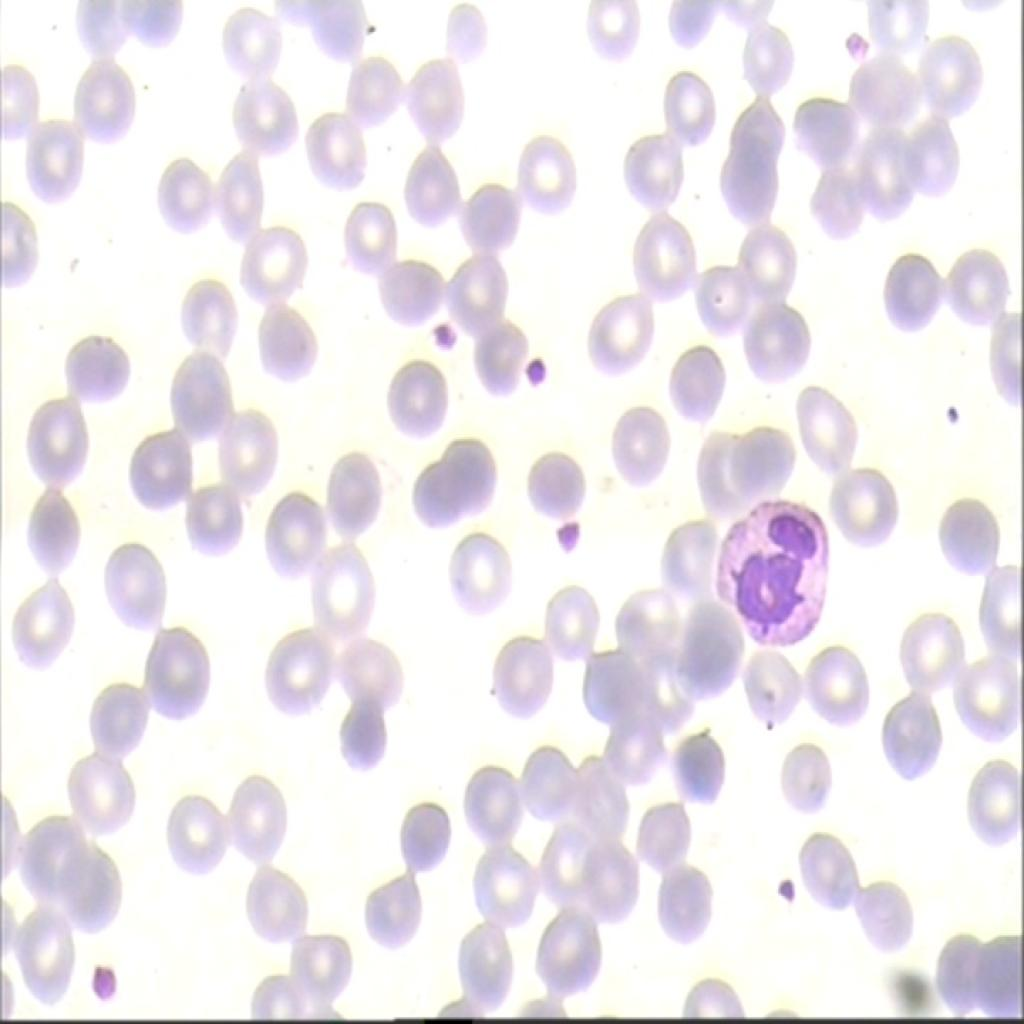Neutrofil: (712, 492, 844, 658)
Platelet: (549, 502, 593, 566), (81, 944, 124, 1008), (424, 306, 469, 362), (512, 338, 556, 384), (835, 25, 875, 75), (940, 386, 970, 434), (771, 864, 801, 907)
